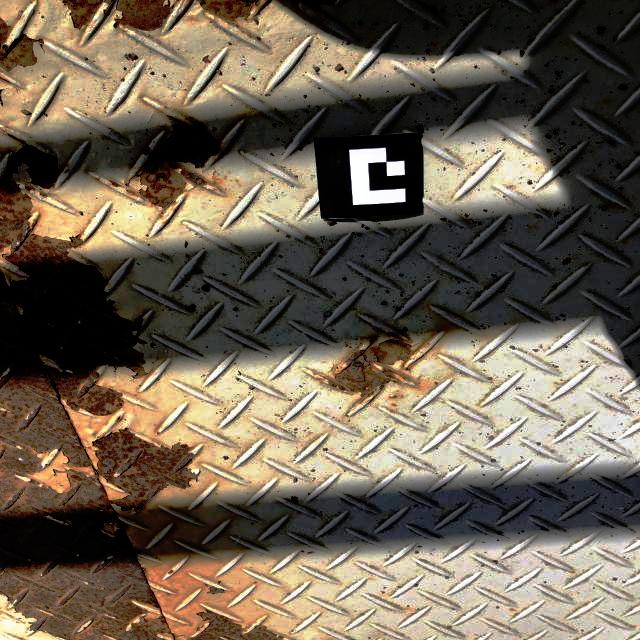Corrosion: (0, 129, 285, 640), (109, 110, 222, 209), (302, 331, 421, 409), (0, 9, 44, 72), (196, 0, 261, 22), (291, 0, 332, 11), (202, 584, 225, 595), (0, 75, 11, 84), (116, 415, 125, 423), (0, 88, 4, 105), (168, 569, 174, 574), (155, 432, 160, 435)
